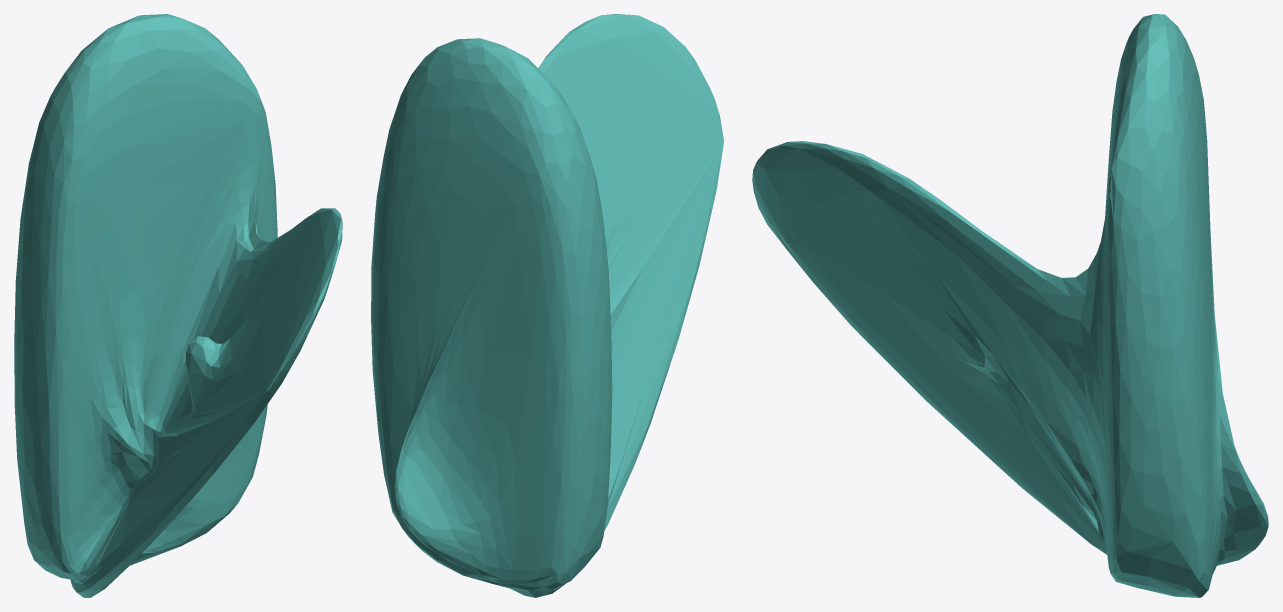
3 renders of one model, left to right at view 1: azimuth 30°, elevation 25°; view 2: azimuth 150°, elevation 25°; view 3: azimuth 270°, elevation 25°, orthographic. The views are drawn at different scales.
Visible parts, largest first — view 1: 634_Cube.2551; view 2: 634_Cube.2551; view 3: 634_Cube.2551.
Boxes of the visible parts, left/top/right/bottom form: 634_Cube.2551: left=14, top=14, right=342, bottom=597; 634_Cube.2551: left=371, top=14, right=723, bottom=597; 634_Cube.2551: left=752, top=14, right=1268, bottom=597.
Size of the model in its own units: 5.18 by 11.62 by 9.26.
